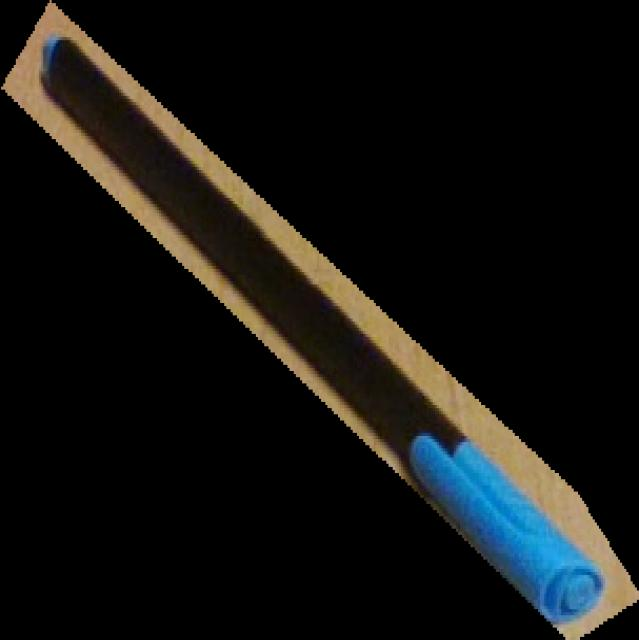blue: (0, 0, 639, 640)
